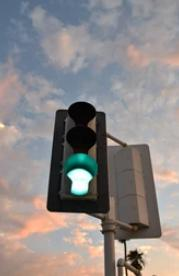green_light: (47, 102, 111, 213)
